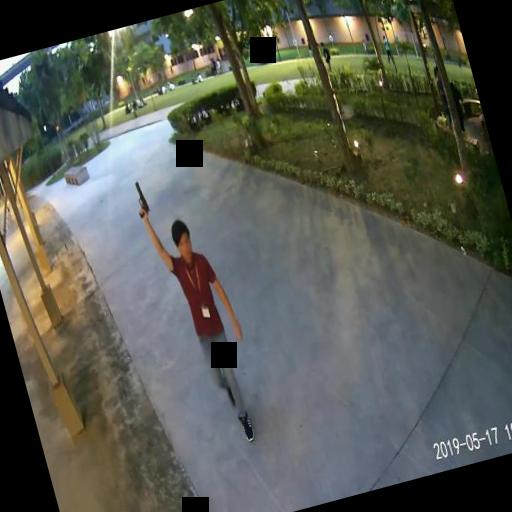Handgun: (130, 178, 150, 218)
